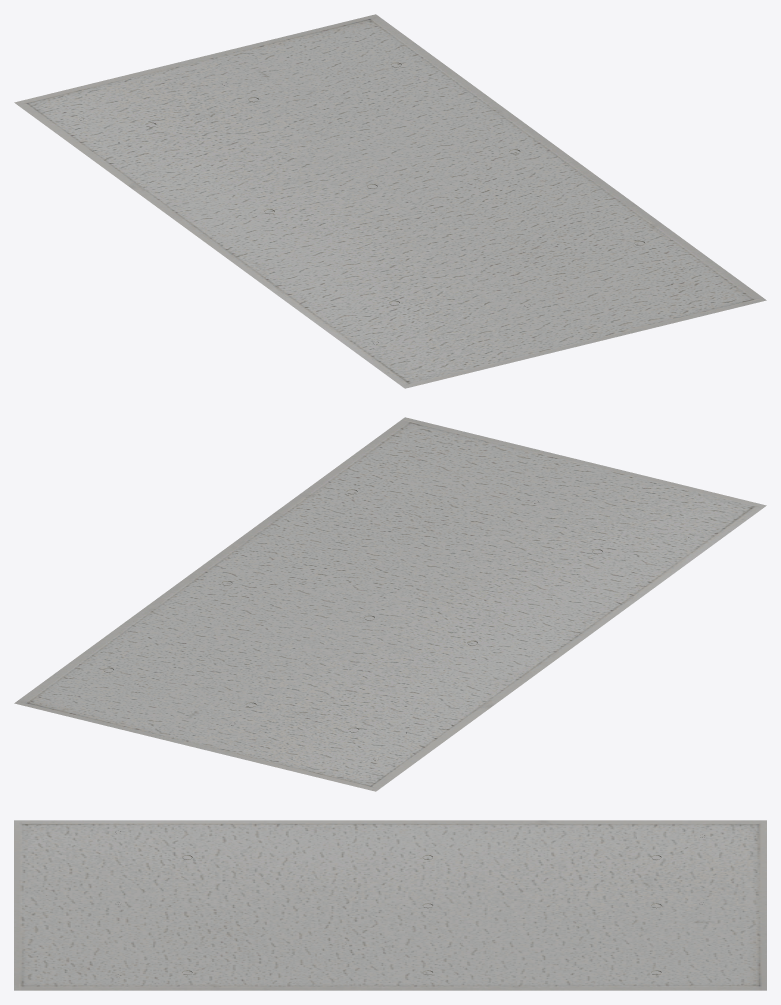
The model's file is Ceiling.fbx.
3 views of the same model, one above another, from view 1: azimuth 30°, elevation 25°; view 2: azimuth 150°, elevation 25°; view 3: azimuth 270°, elevation 25° (orthographic). The views are drawn at different scales.
Visible parts, largest first — view 1: Environ_Ceilling; view 2: Environ_Ceilling; view 3: Environ_Ceilling.
Boxes of the visible parts, <box> form: Environ_Ceilling: <box>14,14,766,388</box>; Environ_Ceilling: <box>14,417,766,791</box>; Environ_Ceilling: <box>14,820,766,990</box>.
Bounding box in the file's own units: 2068 × 102 × 3869.
6 materials, 6 textured.
